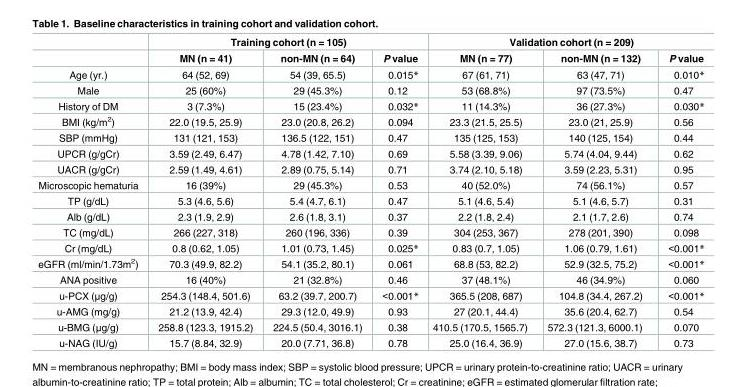table: (37, 37, 703, 348)
table column: (536, 37, 654, 348), (147, 37, 262, 348), (424, 37, 536, 348), (37, 37, 147, 348), (262, 37, 371, 348), (371, 37, 424, 348), (654, 37, 703, 348)
table column header: (37, 37, 703, 65)
table row: (37, 65, 703, 82), (37, 113, 703, 130), (37, 255, 703, 272), (37, 318, 703, 335), (37, 97, 703, 113), (37, 145, 703, 161), (37, 161, 703, 177), (37, 177, 703, 193), (37, 193, 703, 209), (37, 239, 703, 255), (37, 287, 703, 303), (37, 50, 703, 65), (37, 82, 703, 97), (37, 130, 703, 145), (37, 209, 703, 224), (37, 224, 703, 239), (37, 272, 703, 287), (37, 303, 703, 318), (37, 37, 703, 50), (37, 335, 703, 348)
table spanning cell: (424, 37, 703, 50), (147, 37, 424, 50)
